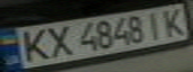4: (75, 19, 100, 52), (112, 15, 133, 47)
8: (93, 17, 115, 51), (127, 12, 148, 44)
I: (142, 9, 169, 39)
K: (12, 26, 54, 63), (157, 6, 193, 37)
X: (39, 22, 75, 58)
